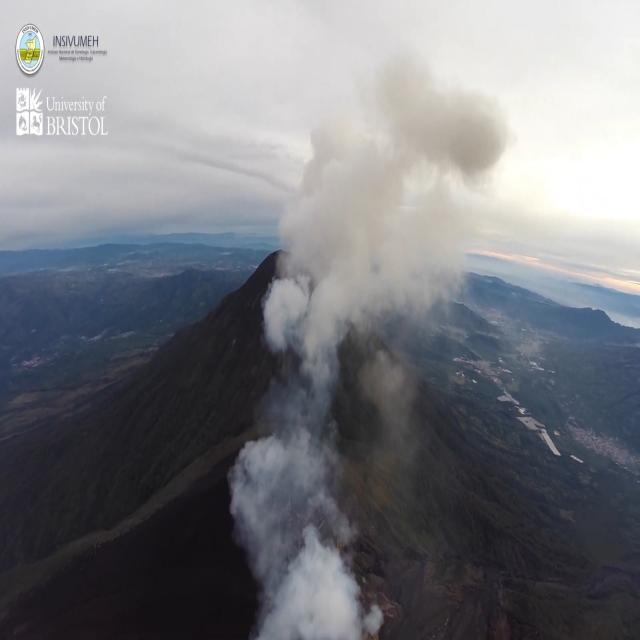Plume: (228, 25, 523, 365), (214, 422, 394, 640)
